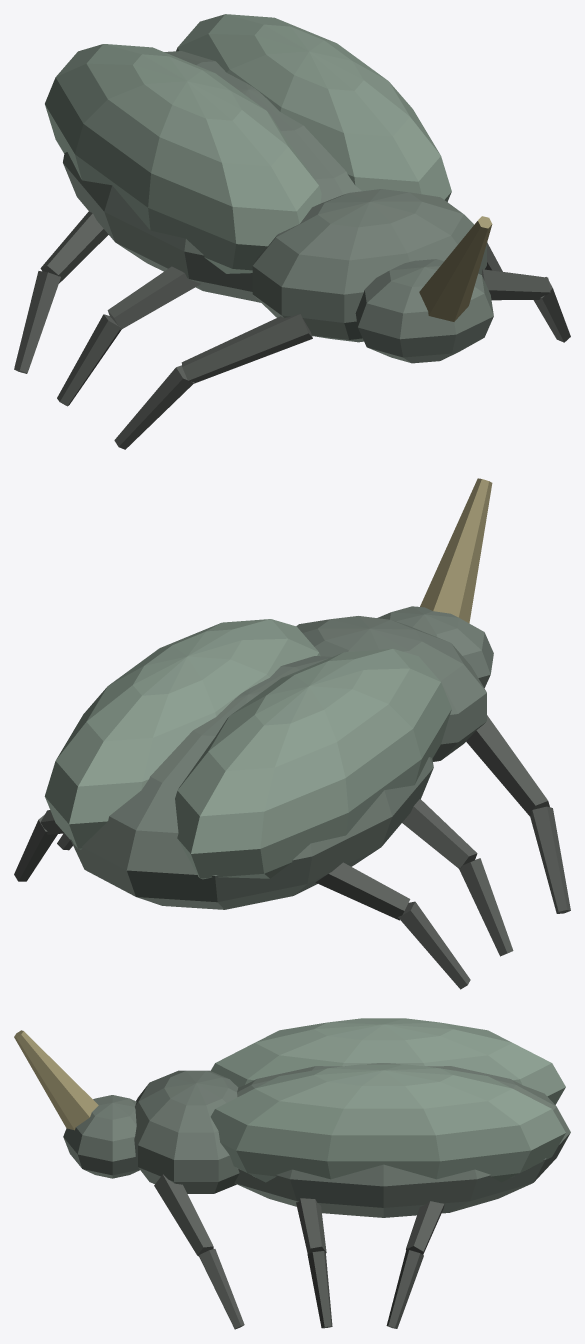
File: escarabajo.glb
3 renders of one model, top to bottom at view 1: azimuth 30°, elevation 25°; view 2: azimuth 150°, elevation 25°; view 3: azimuth 270°, elevation 25°, orthographic. The views are drawn at different scales.
Parts seen in each view (by area): view 1: esc_elitro_0, esc_elitro_2, esc_torax, esc_abdomen, esc_cabeza, esc_femur_0_0, esc_cuerno, esc_femur_1_0, esc_tibia_2_0, esc_femur_2_0, esc_tibia_0_0, esc_tibia_1_0 (+2 smaller); view 2: esc_elitro_0, esc_elitro_2, esc_abdomen, esc_torax, esc_cuerno, esc_cabeza, esc_femur_0_0, esc_femur_2_0, esc_tibia_0_0, esc_femur_1_0, esc_tibia_1_0, esc_tibia_2_0 (+1 smaller); view 3: esc_elitro_2, esc_elitro_0, esc_abdomen, esc_torax, esc_cabeza, esc_cuerno, esc_femur_0_2, esc_tibia_0_2, esc_tibia_2_2, esc_femur_1_2, esc_tibia_1_2, esc_femur_2_2.
Boxes of the visible parts, box(x1,y1,x2,y2) form: esc_elitro_0: box(45, 44, 321, 273); esc_elitro_2: box(176, 14, 451, 201); esc_torax: box(252, 189, 486, 342); esc_abdomen: box(63, 51, 361, 302); esc_cabeza: box(355, 259, 493, 363); esc_femur_0_0: box(181, 314, 312, 383); esc_cuerno: box(419, 216, 492, 321); esc_femur_1_0: box(107, 266, 200, 329); esc_tibia_2_0: box(14, 271, 60, 373); esc_femur_2_0: box(40, 211, 108, 283); esc_tibia_0_0: box(114, 365, 194, 449); esc_tibia_1_0: box(57, 314, 121, 406); esc_elitro_0: box(175, 648, 451, 879); esc_elitro_2: box(44, 619, 320, 849); esc_abdomen: box(70, 656, 433, 909); esc_torax: box(296, 616, 486, 761); esc_cuerno: box(420, 478, 492, 623); esc_cabeza: box(377, 606, 493, 687); esc_femur_0_0: box(466, 715, 549, 816); esc_femur_2_0: box(315, 862, 410, 920); esc_tibia_0_0: box(530, 806, 570, 913); esc_femur_1_0: box(402, 799, 477, 868); esc_tibia_1_0: box(458, 858, 513, 956); esc_tibia_2_0: box(398, 901, 470, 989); esc_elitro_2: box(210, 1064, 565, 1182); esc_elitro_0: box(211, 1018, 565, 1104); esc_abdomen: box(234, 1063, 570, 1217); esc_torax: box(134, 1070, 239, 1193); esc_cabeza: box(63, 1095, 139, 1178); esc_cuerno: box(14, 1030, 98, 1130); esc_femur_0_2: box(154, 1174, 213, 1256); esc_tibia_0_2: box(199, 1249, 244, 1329); esc_tibia_2_2: box(386, 1250, 423, 1328); esc_femur_1_2: box(296, 1198, 326, 1253); esc_tibia_1_2: box(307, 1251, 332, 1328); esc_femur_2_2: box(406, 1201, 444, 1254).
Size of the model in its own units: 0.4095 by 0.2419 by 0.5649.
